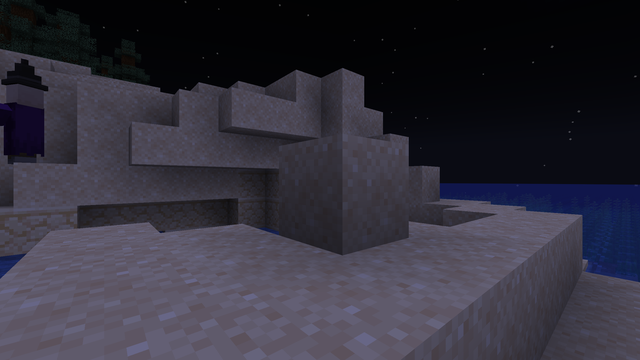sorcieres: (1, 78, 43, 164)
